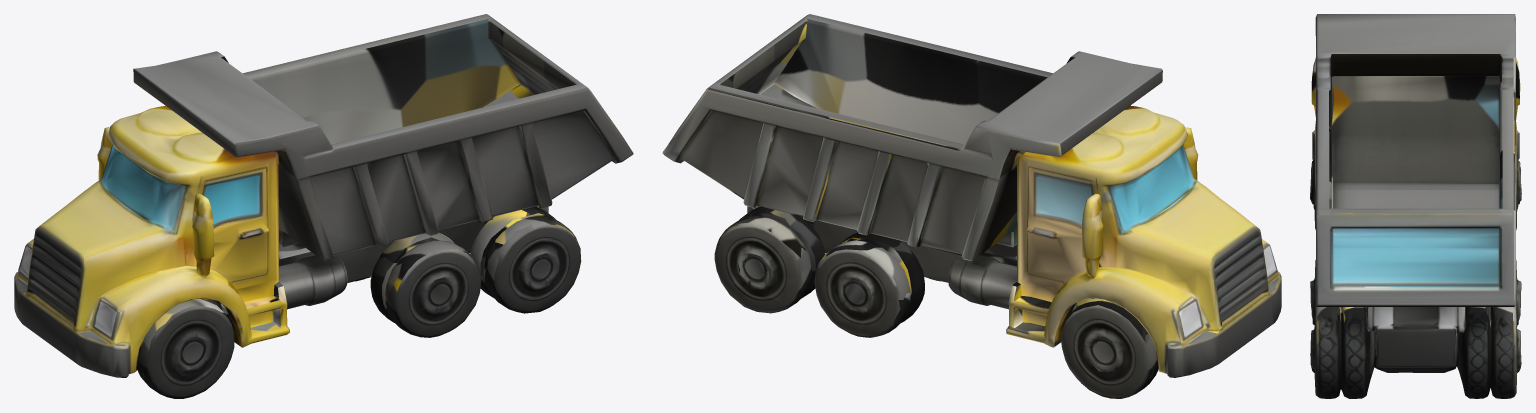
File: uploaded.glb
The picture shows the model from 3 angles, left to right: view 1: azimuth 30°, elevation 25°; view 2: azimuth 150°, elevation 25°; view 3: azimuth 270°, elevation 25°; orthographic projection. The views are drawn at different scales.
Visible parts, largest first — view 1: Dump Truck; view 2: Dump Truck; view 3: Dump Truck.
Part boxes in pixels (x1,y1,x2,y2): Dump Truck: (14,14,633,398); Dump Truck: (662,14,1281,398); Dump Truck: (1310,14,1521,398).
Bounding box in the file's own units: 1.03 × 0.45 × 0.3637.
Materials: 1 (1 with a texture image).
